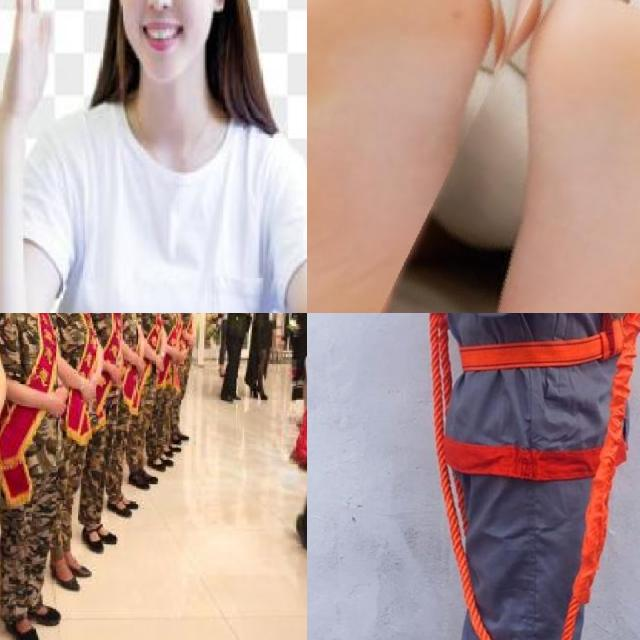Barefoots: (375, 0, 640, 313), (307, 0, 568, 313)
Harness: (416, 313, 640, 552)
No_Ear-Protection: (207, 0, 239, 14)
face_nomask: (114, 0, 237, 88)
hand_noglove: (0, 0, 52, 120), (46, 392, 69, 420), (82, 380, 96, 404), (153, 356, 166, 376), (112, 368, 124, 386), (134, 358, 144, 376), (172, 349, 184, 363), (189, 335, 198, 351), (278, 338, 286, 351), (270, 328, 276, 338)
person: (0, 0, 307, 313), (25, 313, 96, 598), (0, 313, 56, 640), (86, 313, 132, 547)
